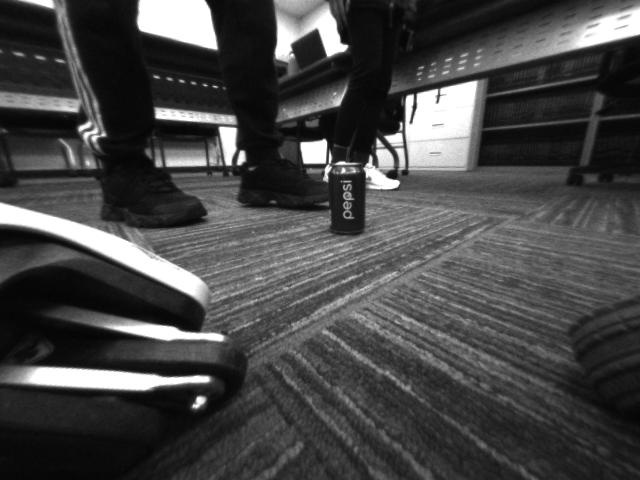can: (325, 160, 371, 236)
